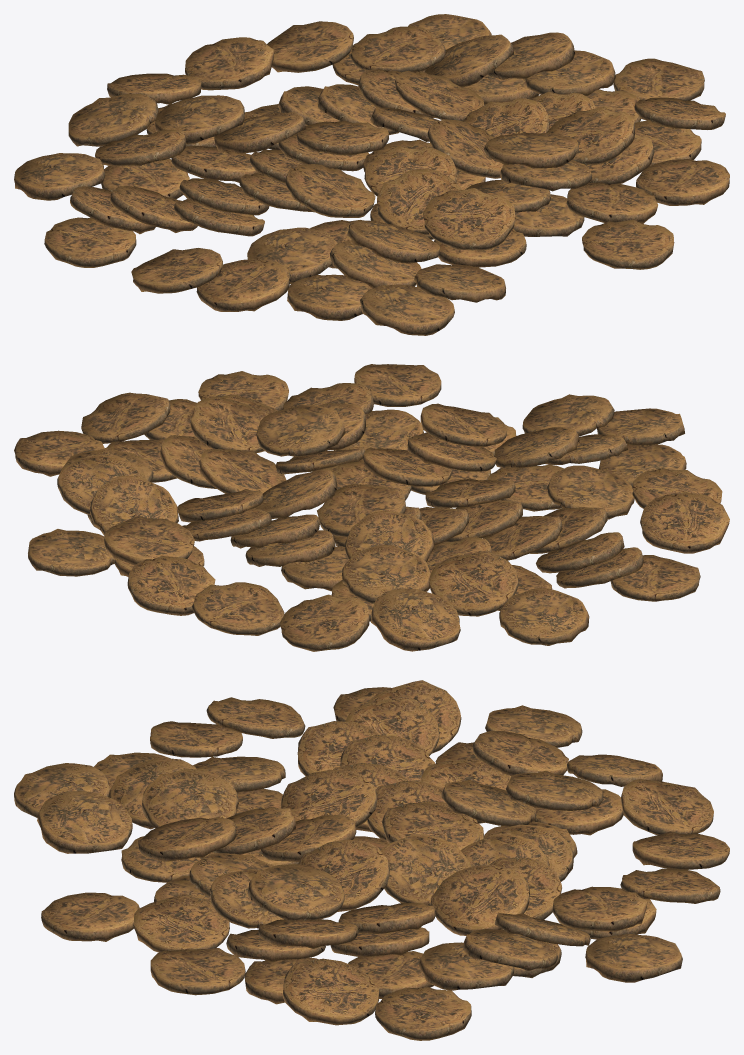
Rendered from roman_coins-optimized.glb.
3 renders of one model, top to bottom at view 1: azimuth 30°, elevation 25°; view 2: azimuth 150°, elevation 25°; view 3: azimuth 270°, elevation 25°, orthographic. The views are drawn at different scales.
Visible parts, largest first — view 1: Coins; view 2: Coins; view 3: Coins.
Part boxes in pixels (x1=…): Coins: x1=14, y1=14, x2=729, y2=335; Coins: x1=14, y1=364, x2=729, y2=651; Coins: x1=14, y1=680, x2=729, y2=1040.
Bounding box in the file's own units: 0.386 × 0.0251 × 0.3399.
1 material, 1 textured.
